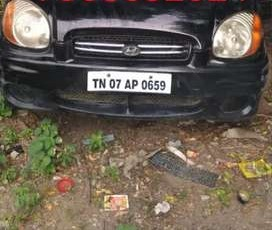TN07AP0659: (87, 71, 171, 93)
